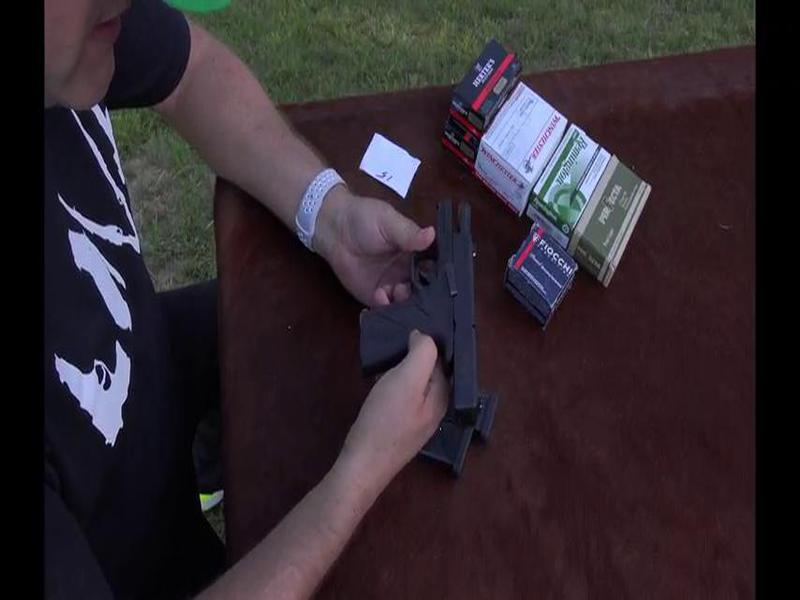Pistola: (340, 188, 507, 429)
